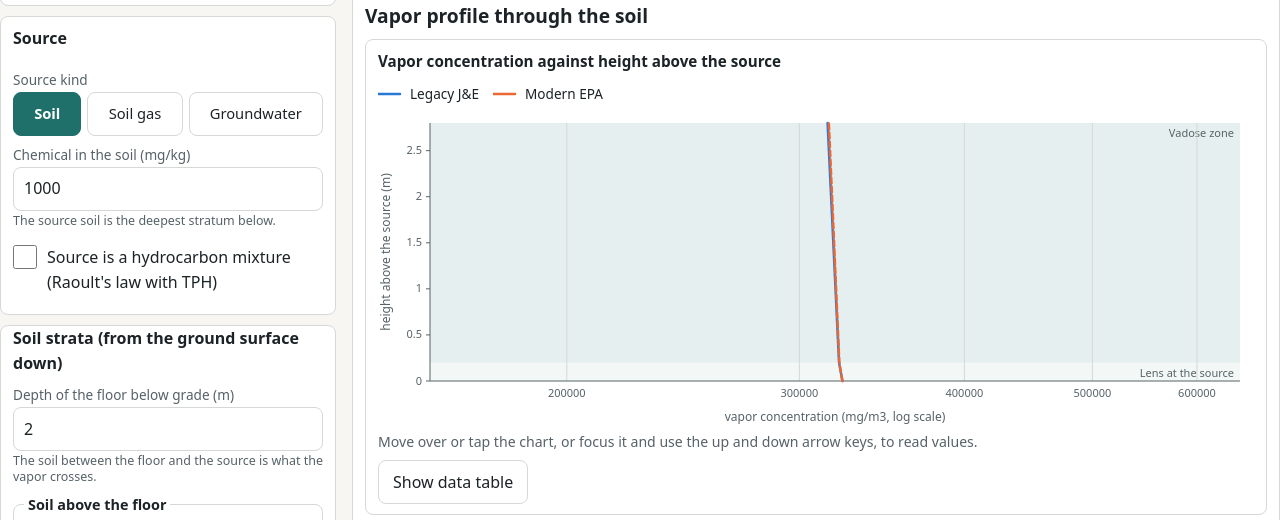
VaporPage › drops the published check once an input changes
(page scrolled)
Replace the text in the field labelled "Chemical in the soil" with "500": (168, 189) top-left (13, 167), bottom-right (323, 211)
(page scrolled)
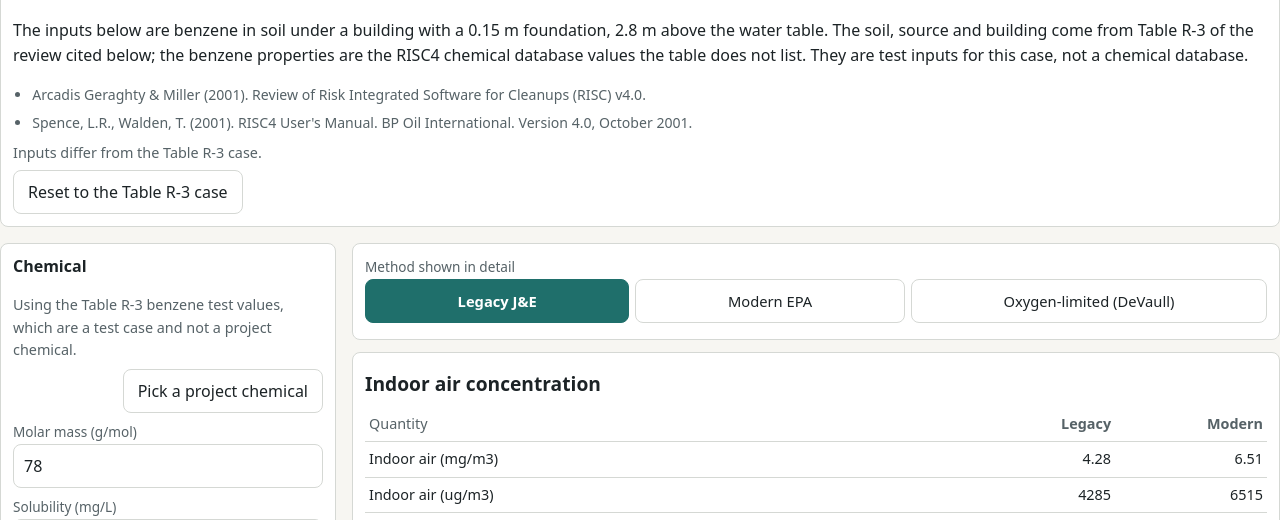
Result: the text "Inputs differ from the Table R-3 case." is shown at top-left (13, 143), bottom-right (262, 162)
